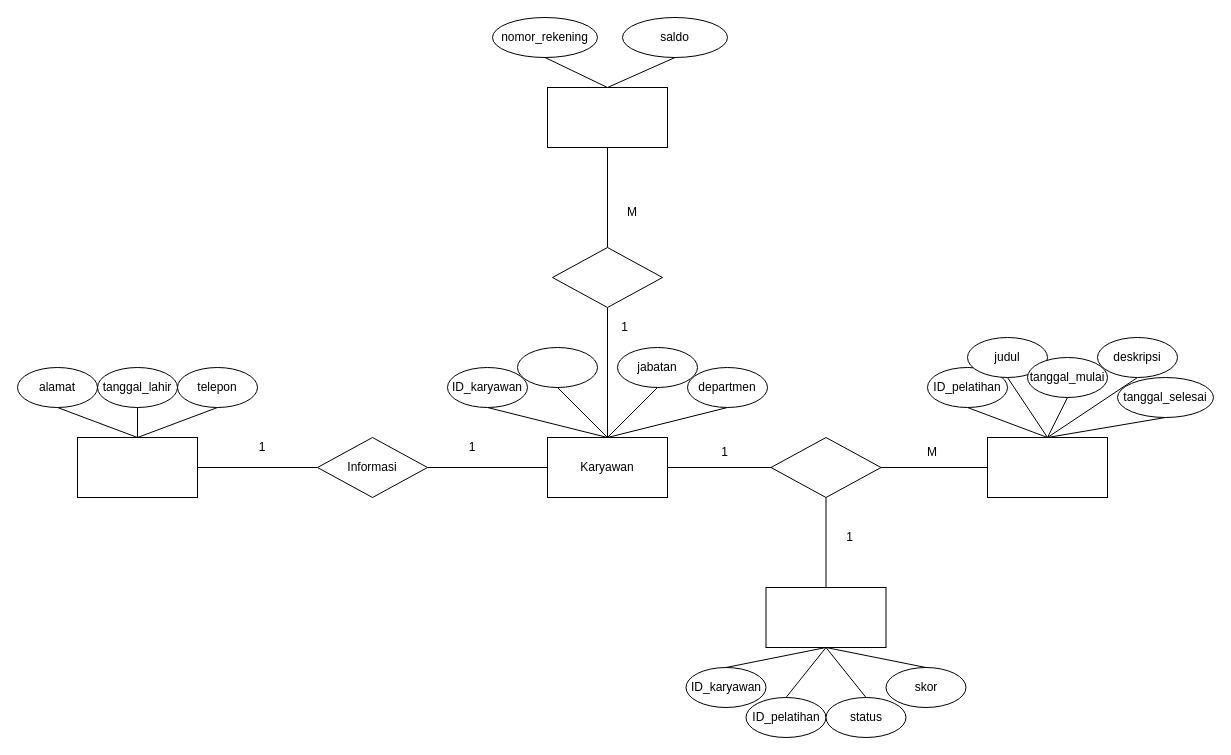
The diagram is 1231 pixels wide and 755 high, and some of its shapes have lost their labels. The shapes that lost their labels are listed below. From the top down, each one's centre as x and y in pixels, then its label:
At pixel 607 117: "Rekening".
At pixel 607 277: "Mengecek".
At pixel 557 367: "nama".
At pixel 137 467: "Detail Karyawan".
At pixel 825 467: "Mengikuti".
At pixel 1047 467: "Training".
At pixel 825 617: "Karyawan Training".
